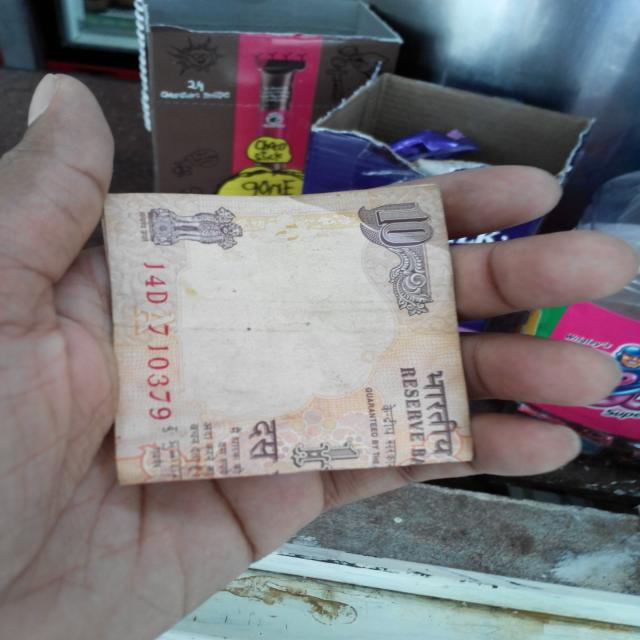10rs: (98, 188, 474, 481)
